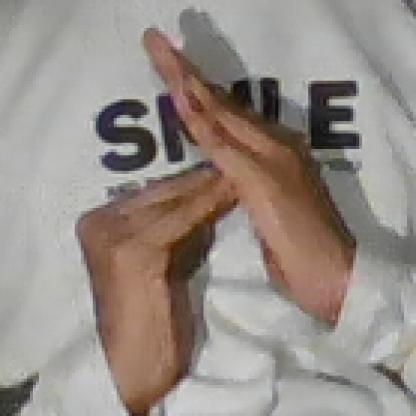Z: (70, 23, 326, 366)
